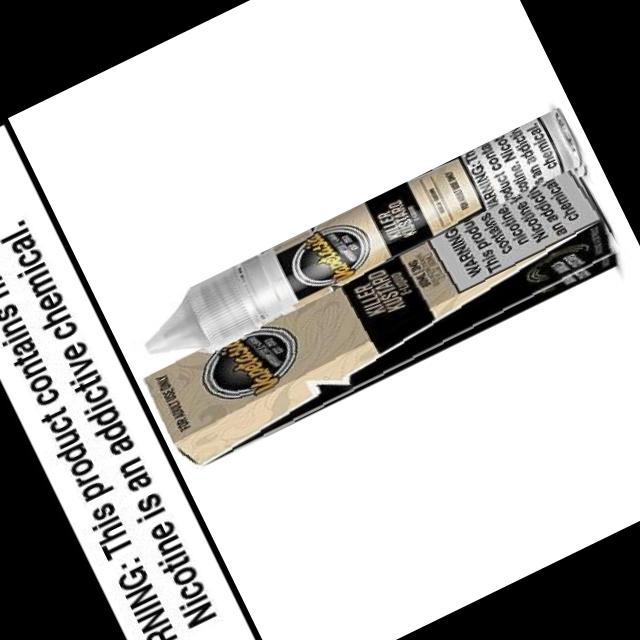Hazard: (141, 164, 626, 475), (128, 105, 592, 384)
